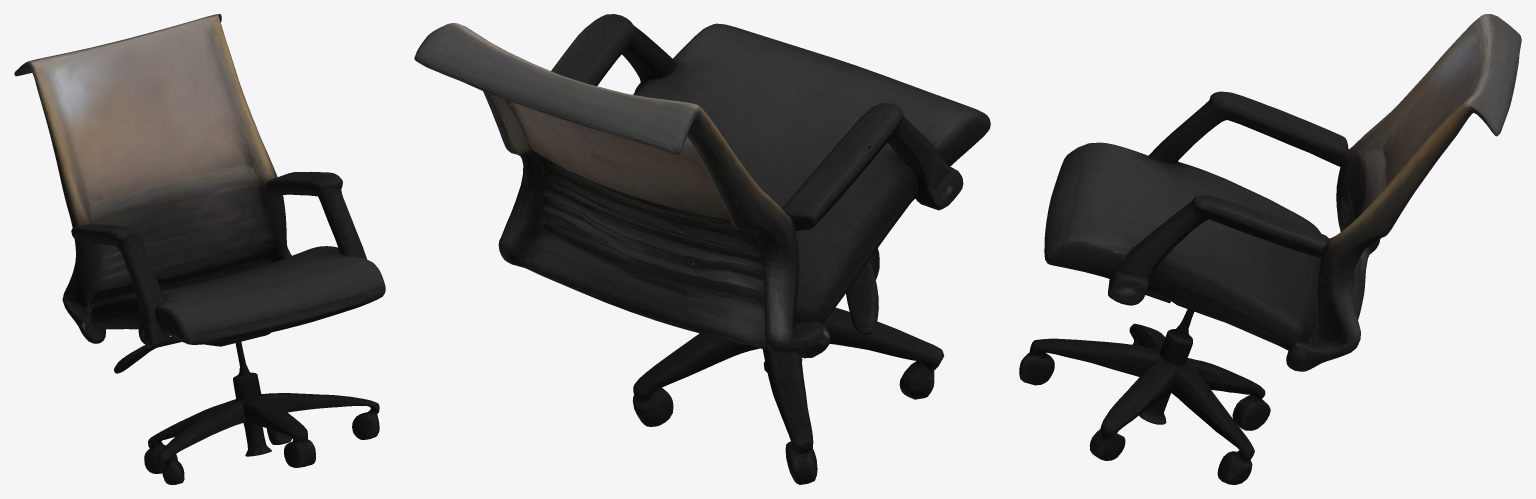
The model's file is black_mesh_office_chair_in_center_foreground_000.glb.
The picture shows the model from 3 angles, left to right: view 1: azimuth 30°, elevation 25°; view 2: azimuth 150°, elevation 25°; view 3: azimuth 270°, elevation 25°; orthographic projection. The views are drawn at different scales.
Visible parts, largest first — view 1: black_mesh_office_chair_in_center_foreground_000.obj; view 2: black_mesh_office_chair_in_center_foreground_000.obj; view 3: black_mesh_office_chair_in_center_foreground_000.obj.
Boxes of the visible parts, bbox=[...] form: black_mesh_office_chair_in_center_foreground_000.obj: bbox=[14, 14, 385, 484]; black_mesh_office_chair_in_center_foreground_000.obj: bbox=[414, 14, 990, 484]; black_mesh_office_chair_in_center_foreground_000.obj: bbox=[1019, 14, 1521, 484].
Bounding box in the file's own units: 0.279 × 0.4076 × 0.4531.
Materials: 1 (1 with a texture image).
